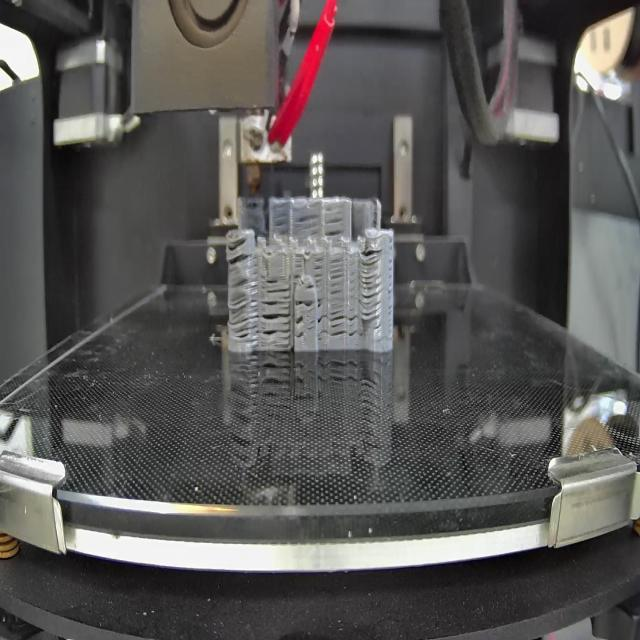cracks: (229, 277, 258, 339), (360, 248, 380, 319), (261, 300, 291, 344), (226, 240, 253, 268), (260, 276, 291, 296), (328, 256, 343, 297), (331, 303, 346, 341), (315, 296, 328, 336), (326, 210, 345, 237), (347, 305, 360, 340), (274, 215, 290, 237), (292, 253, 305, 280), (296, 212, 318, 225), (315, 258, 324, 282), (297, 314, 304, 340), (296, 298, 314, 308), (304, 282, 316, 294), (372, 325, 381, 331)
